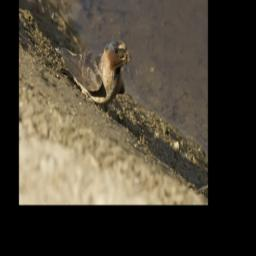Swallow: (58, 39, 130, 108)
